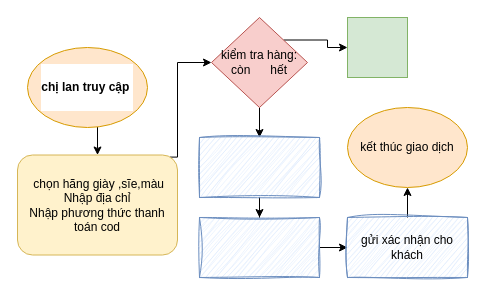
Image size: 485x295. Some labels were removed from this diagram. The shapes that lost their labels are listed below. From the top down, each one's centre as x and y in pixels, then its label:
At (x=377, y=47): "thông báo hết".
At (x=259, y=167): "xử lí đơn,tạo mã đơn".
At (x=259, y=247): "lưu trữ đơn".
